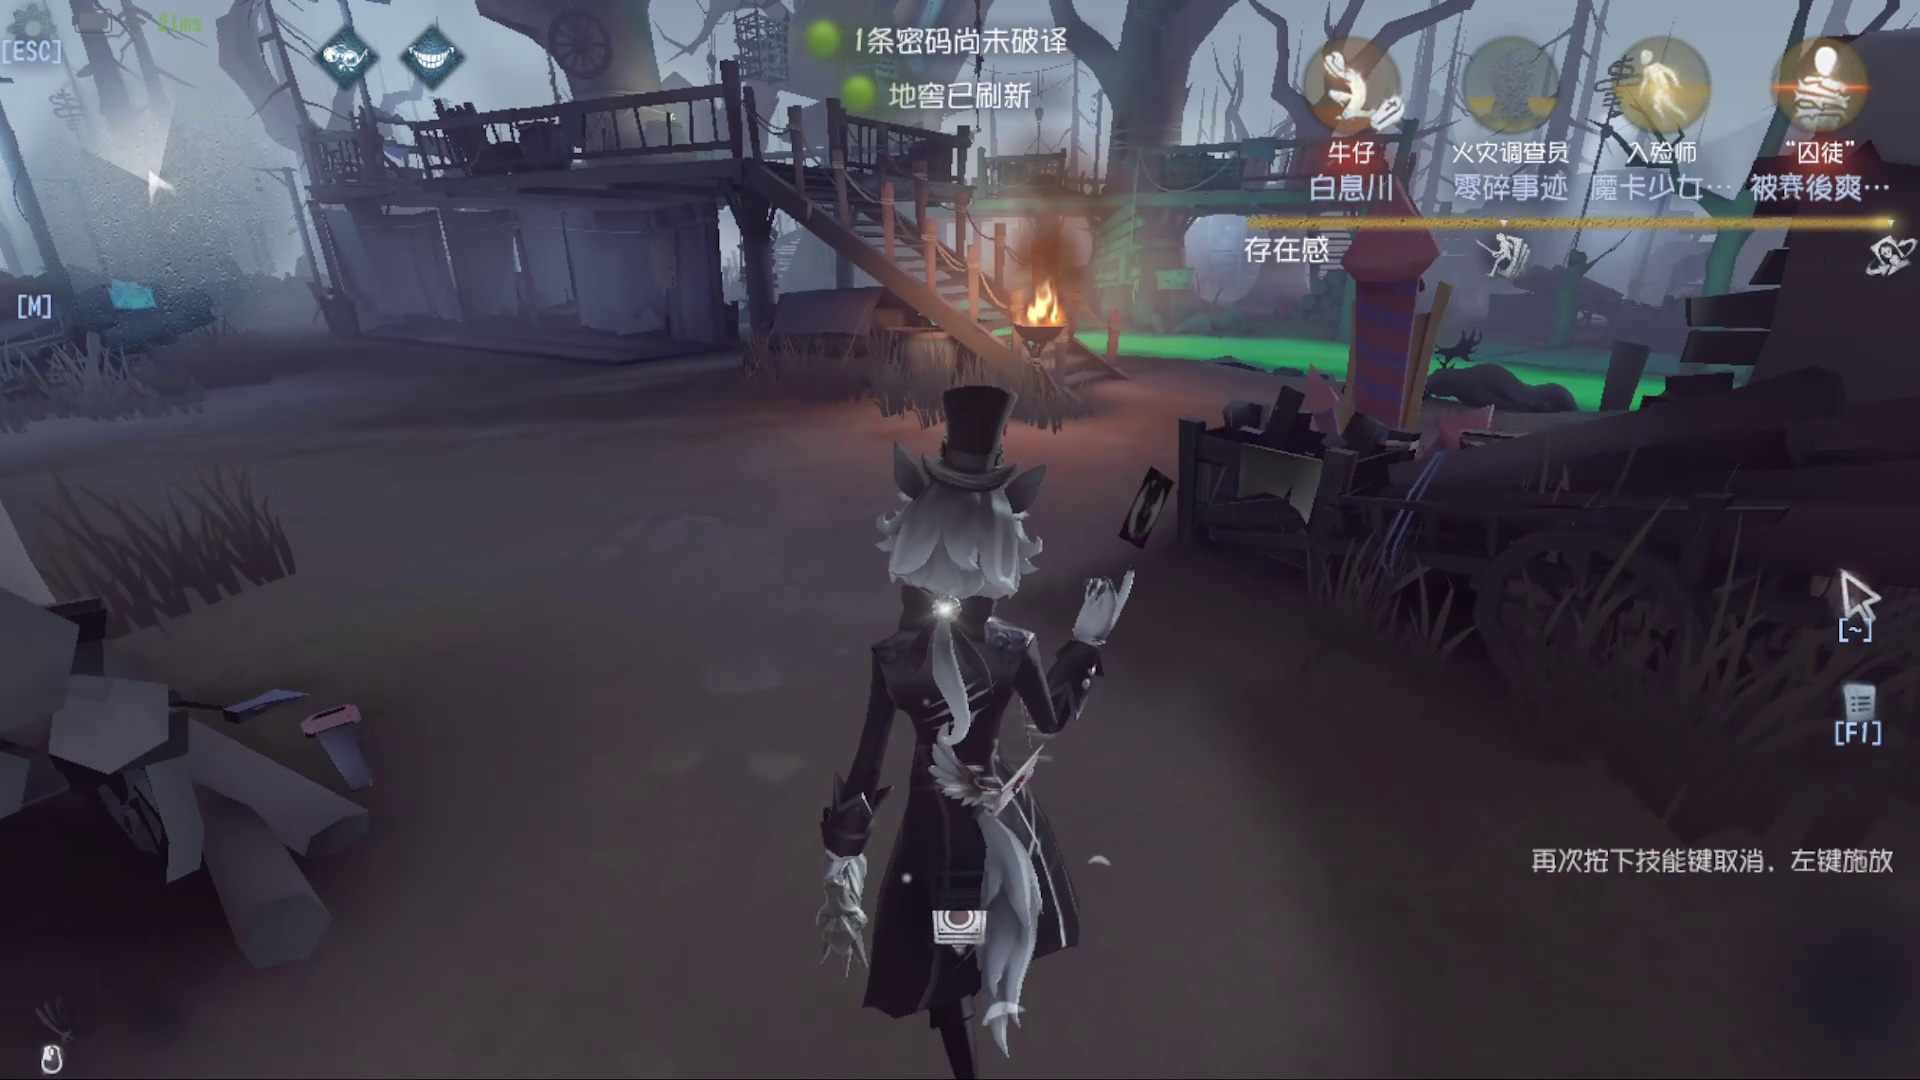狂欢之椅: (1242, 191, 1480, 485)
